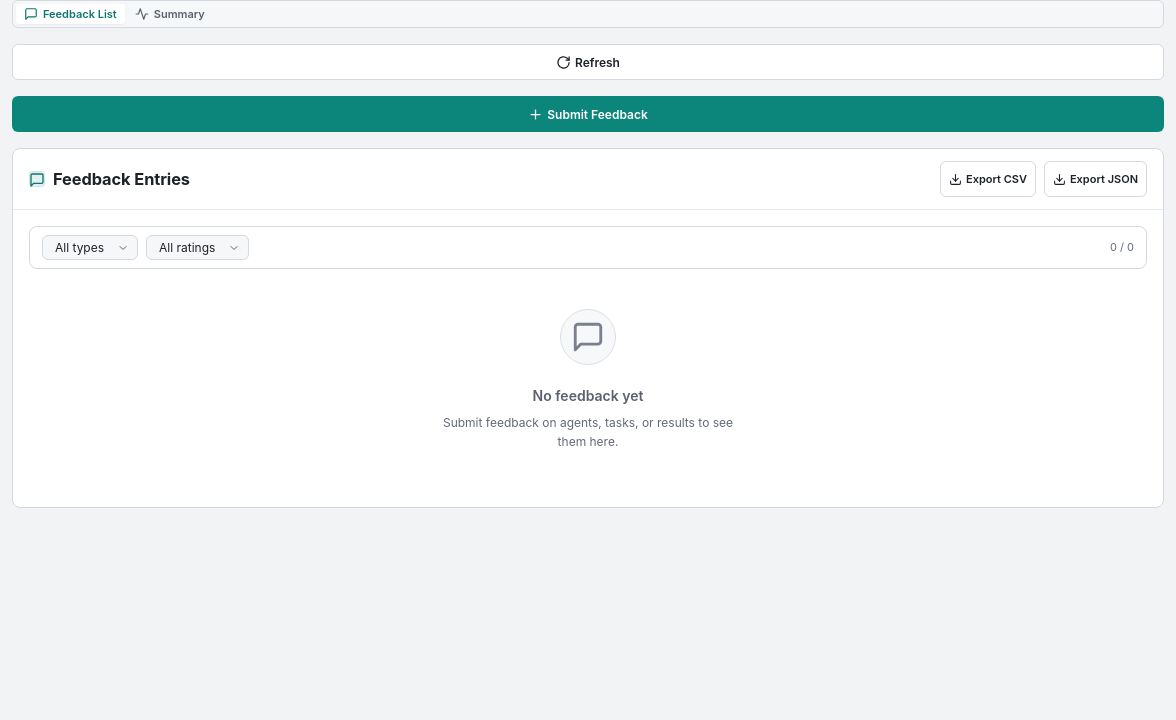
Feedback.vue › renders summary KPIs when summary endpoint returns data
Click the radio button with class "segmented__item" showing "Summary" at x=170, y=14, box [127,4,213,24]
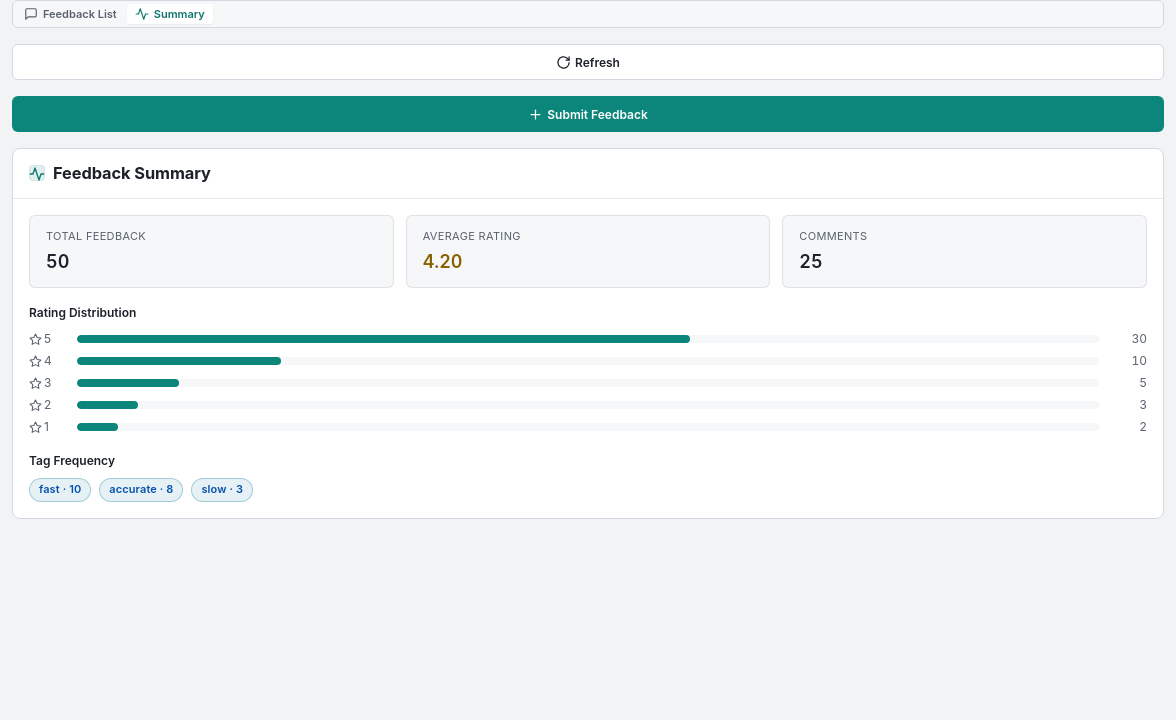
Expected: the element with class "fb-kpi-grid" is shown, [29,215,1147,288]
Expected: the text "50" is shown, [46,251,69,272]
Expected: the text "4.20" is shown, [423,251,462,272]
